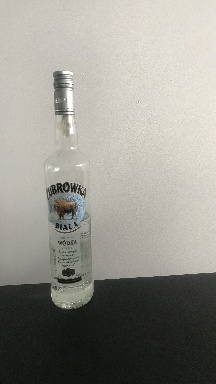butelka: (42, 66, 95, 311)
